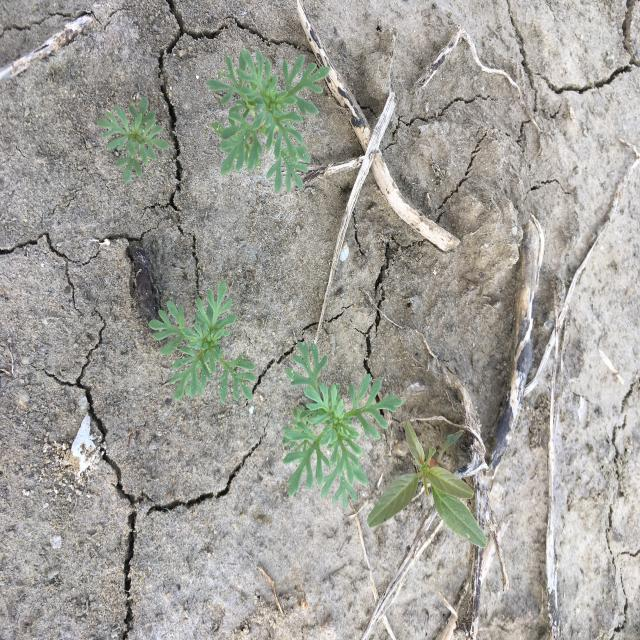Ragweed: (281, 338, 406, 510), (204, 45, 332, 195), (147, 278, 258, 407), (93, 92, 171, 187)
Waterhemp: (366, 418, 490, 552)
